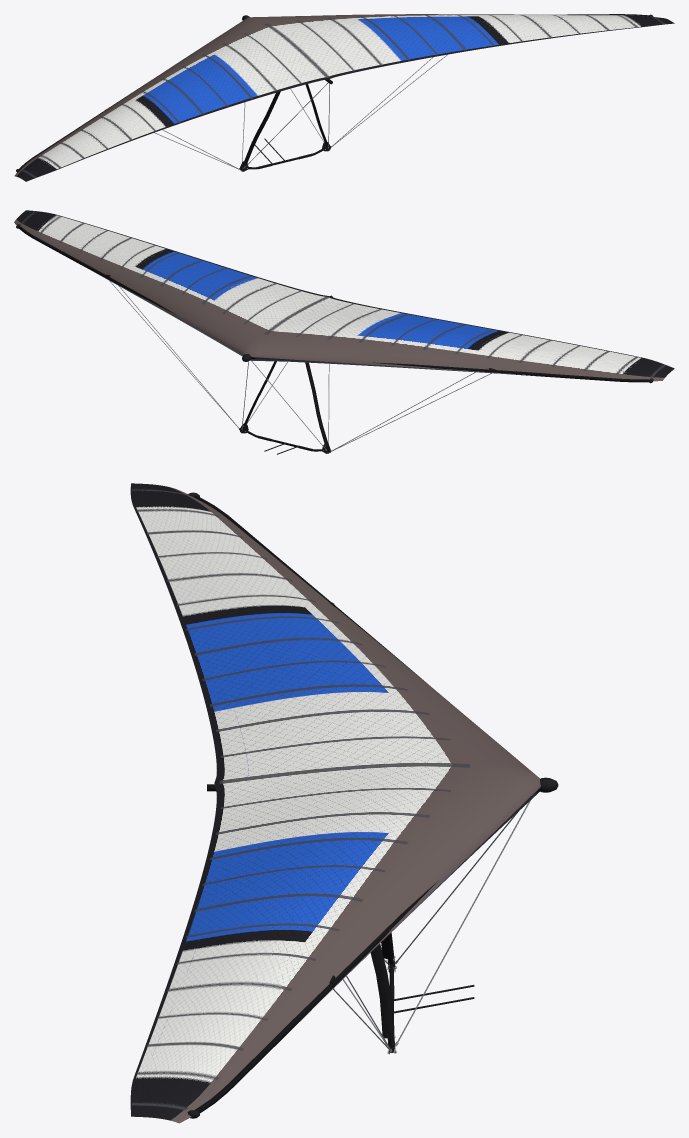
The model's file is glider_aeros_combat_l.glb.
3 renders of one model, top to bottom at view 1: azimuth 30°, elevation 25°; view 2: azimuth 150°, elevation 25°; view 3: azimuth 270°, elevation 25°, orthographic. The views are drawn at different scales.
Parts seen in each view (by area): view 1: Sail, ControlFrame, Frame; view 2: Sail, ControlFrame, Frame; view 3: Sail, ControlFrame, Frame.
Part boxes in pixels (x1,y1,x2,y2): Sail: (14, 14, 674, 181); ControlFrame: (154, 54, 447, 171); Frame: (16, 14, 653, 172); Sail: (14, 210, 674, 381); ControlFrame: (109, 281, 491, 454); Frame: (16, 224, 653, 383); Sail: (130, 483, 540, 1123); ControlFrame: (216, 791, 530, 1054); Frame: (187, 492, 558, 1118).
Bounding box in the file's own units: 10.35 × 1.93 × 2.95.
8 materials, 1 textured.
